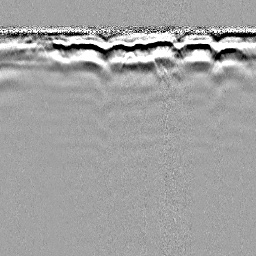cavity: (118, 51, 142, 74)
